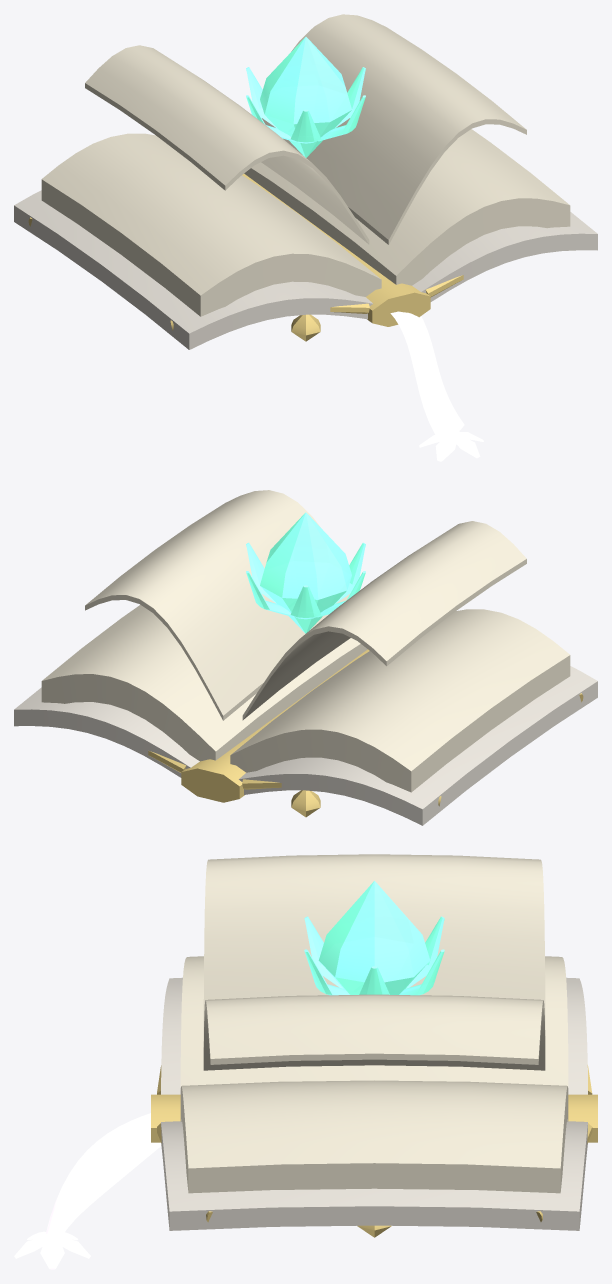
File: art_gild_evergarden_codex.fbx
3 views of the same model, one above another, from view 1: azimuth 30°, elevation 25°; view 2: azimuth 150°, elevation 25°; view 3: azimuth 270°, elevation 25° (orthographic). The views are drawn at different scales.
Parts seen in each view (by area): view 1: PagesL, LivingPage1, PagesR, LivingPage2, CoverL, JadeGem, CoverR, BlossomBookmark, Spine, FiligreeTrim, Handle.005; view 2: PagesL, LivingPage1, PagesR, LivingPage2, CoverL, JadeGem, CoverR, Spine, FiligreeTrim, Handle.005; view 3: PagesR, LivingPage2, LivingPage1, CoverR, PagesL, JadeGem, BlossomBookmark, CoverL, Spine.
Boxes of the visible parts, box(x1,y1,x2,y2) form: PagesL: box(41, 133, 381, 316); LivingPage1: box(262, 14, 526, 244); PagesR: box(244, 129, 570, 285); LivingPage2: box(85, 45, 369, 244); CoverL: box(14, 190, 372, 349); JadeGem: box(246, 37, 365, 157); CoverR: box(412, 212, 597, 301); BlossomBookmark: box(390, 311, 483, 461); Spine: box(242, 174, 430, 326); FiligreeTrim: box(28, 217, 463, 330); Handle.005: box(291, 314, 320, 341); PagesL: box(230, 609, 570, 792); LivingPage1: box(85, 490, 349, 720); PagesR: box(41, 605, 367, 761); LivingPage2: box(242, 521, 526, 720); CoverL: box(239, 666, 597, 825); JadeGem: box(246, 512, 365, 633); CoverR: box(14, 687, 199, 777); Spine: box(181, 649, 369, 802); FiligreeTrim: box(148, 693, 583, 806); Handle.005: box(291, 790, 320, 817); PagesR: box(180, 1080, 568, 1193); LivingPage2: box(203, 854, 545, 1040); LivingPage1: box(203, 994, 545, 1070); CoverR: box(161, 1121, 587, 1230); PagesL: box(180, 956, 568, 1089); JadeGem: box(304, 880, 444, 995); BlossomBookmark: box(14, 1113, 161, 1269); CoverL: box(161, 977, 587, 1094); Spine: box(151, 1094, 597, 1142).
Bounding box in the file's own units: 1.69 × 1.23 × 1.78.
